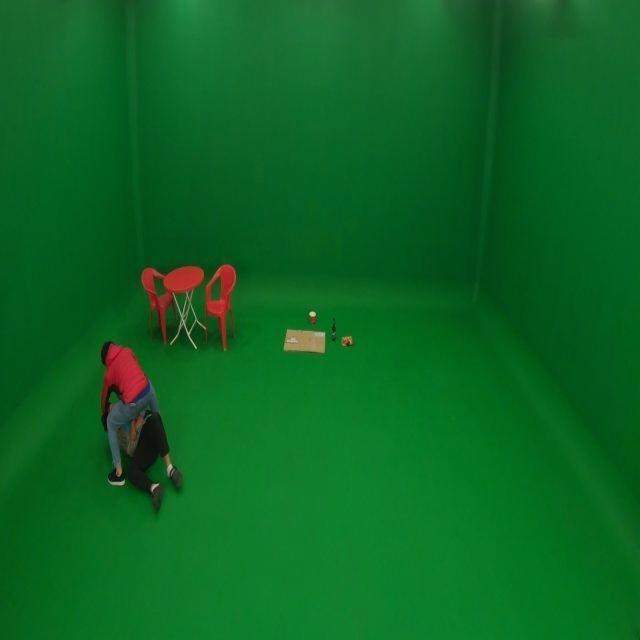fight: (96, 336, 184, 515)
